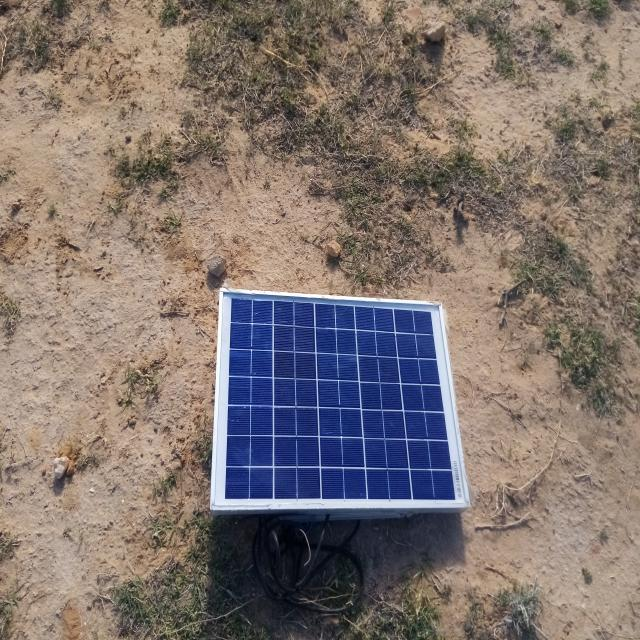no faulty: (209, 290, 469, 511)
